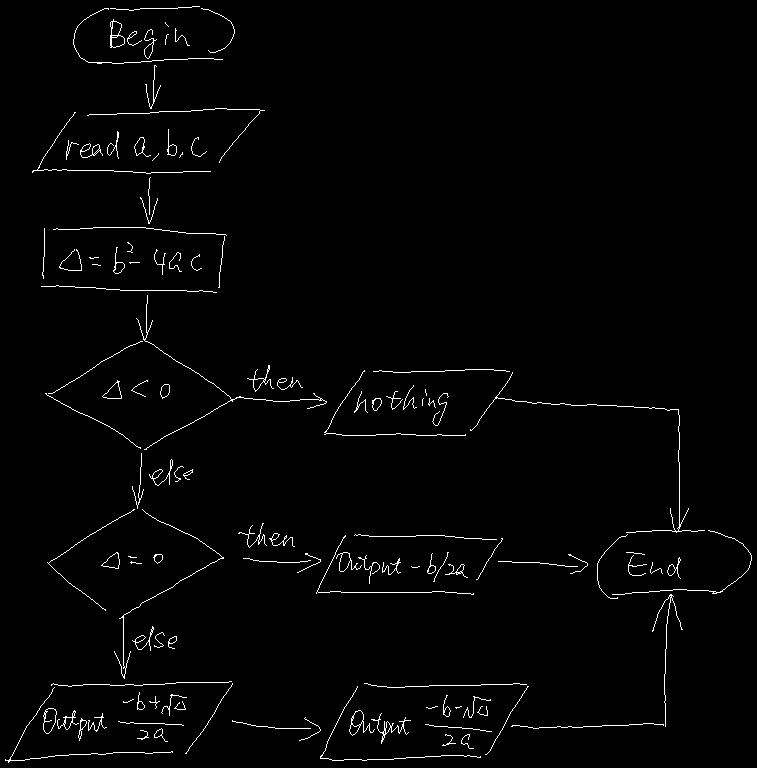arrow: (495, 397, 688, 532), (511, 594, 682, 728), (232, 717, 320, 740), (498, 554, 587, 573), (243, 553, 320, 572), (236, 393, 326, 408), (114, 616, 130, 678), (140, 177, 157, 223), (136, 295, 152, 340), (145, 65, 160, 108), (132, 453, 143, 508)
data: (5, 681, 232, 762), (320, 683, 528, 760), (32, 108, 264, 173), (324, 369, 512, 435), (316, 534, 502, 594)
decision: (45, 341, 240, 449), (47, 509, 223, 618)
process: (41, 227, 226, 292)
terminator: (597, 530, 751, 598), (73, 6, 234, 63)
text: (349, 695, 491, 748), (43, 692, 186, 741), (59, 242, 201, 274), (66, 129, 206, 160), (336, 552, 467, 583), (354, 385, 448, 425), (110, 19, 189, 58), (247, 365, 302, 391), (626, 552, 680, 578), (238, 523, 294, 547), (102, 380, 169, 398), (149, 459, 192, 485), (132, 626, 176, 650), (101, 552, 162, 568)
